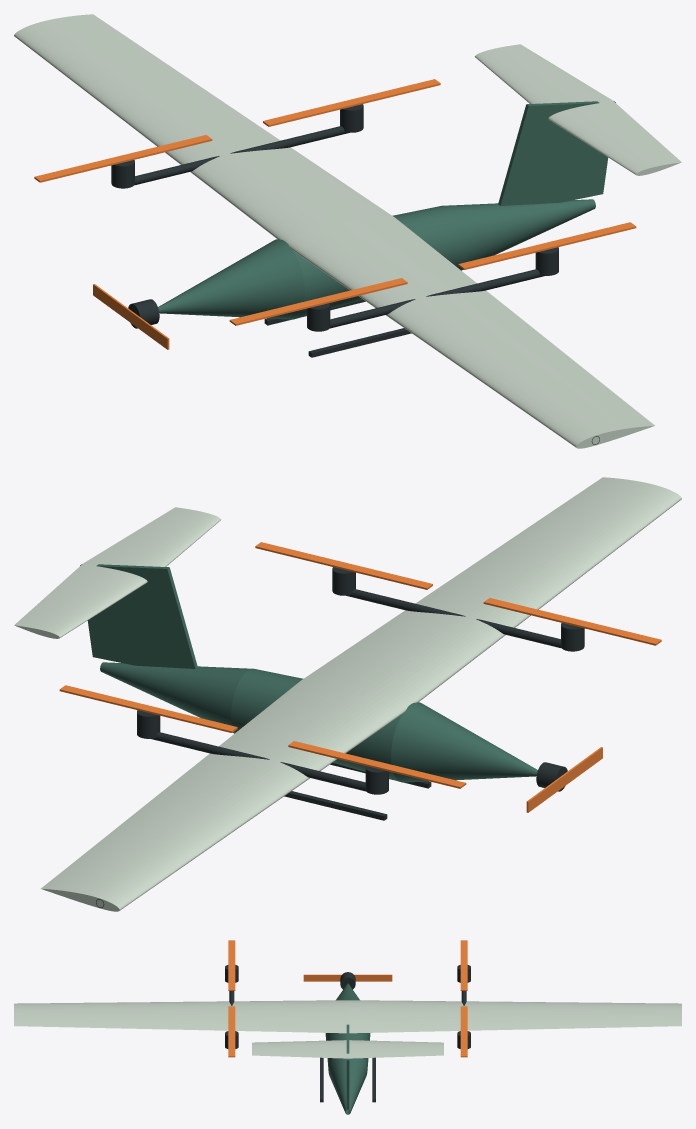
The picture shows the model from 3 angles, top to bottom: view 1: azimuth 30°, elevation 25°; view 2: azimuth 150°, elevation 25°; view 3: azimuth 270°, elevation 25°; orthographic projection. The views are drawn at different scales.
Visible parts, largest first — view 1: wing-1, wing1, fuselage, fin, tail-1, tail1, boom-1, boom1, prop_-1_160.0, prop_1_160.0, prop_-1_700.0, prop_1_700.0 (+2 smaller); view 2: wing1, wing-1, fuselage, fin, tail1, tail-1, boom1, boom-1, prop_-1_160.0, prop_1_160.0, prop_1_700.0, prop_-1_700.0 (+2 smaller); view 3: wing-1, wing1, fuselage, tail-1, tail1, cruise_prop, prop_-1_700.0, prop_1_700.0, prop_-1_160.0, prop_1_160.0, fin.
Part boxes in pixels (box(x1,y1,x2,y2)): wing-1: box(285, 217, 654, 448); wing1: box(14, 14, 393, 241); fuselage: box(158, 199, 595, 319); fin: box(498, 101, 615, 205); tail-1: box(548, 100, 681, 175); tail1: box(474, 44, 611, 103); boom-1: box(330, 269, 544, 328); boom1: box(134, 126, 349, 185); prop_-1_160.0: box(229, 278, 407, 325); prop_1_160.0: box(34, 135, 212, 182); prop_-1_700.0: box(458, 222, 636, 269); prop_1_700.0: box(263, 79, 440, 126); wing1: box(41, 680, 410, 911); wing-1: box(302, 477, 681, 704); fuselage: box(100, 662, 537, 782); fin: box(80, 564, 197, 668); tail1: box(14, 563, 147, 638); tail-1: box(84, 507, 221, 566); boom1: box(151, 732, 365, 791); boom-1: box(346, 589, 561, 648); prop_-1_160.0: box(483, 598, 661, 645); prop_1_160.0: box(288, 741, 466, 788); prop_1_700.0: box(59, 685, 237, 732); prop_-1_700.0: box(255, 542, 432, 589); wing-1: box(14, 1000, 347, 1033); wing1: box(348, 1000, 681, 1033); fuselage: box(325, 983, 370, 1114); tail-1: box(252, 1040, 347, 1058); tail1: box(348, 1040, 443, 1058); cruise_prop: box(303, 974, 392, 981); prop_-1_700.0: box(228, 1006, 235, 1057); prop_1_700.0: box(460, 1006, 467, 1057); prop_-1_160.0: box(228, 940, 235, 990); prop_1_160.0: box(460, 940, 467, 990); fin: box(346, 1024, 349, 1109).
Bounding box in the file's own units: 1144 × 400 × 2300.
